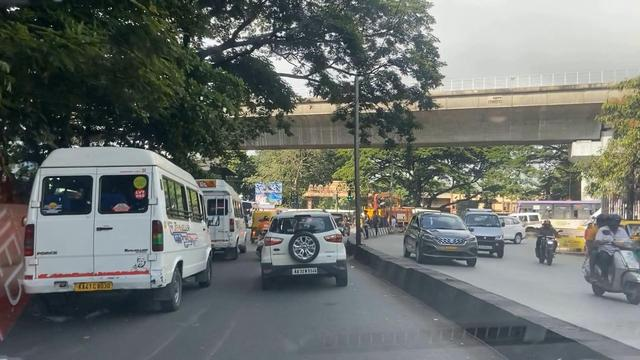HMV: (43, 156, 212, 308), (201, 180, 248, 259)
LMV: (264, 204, 348, 281)
